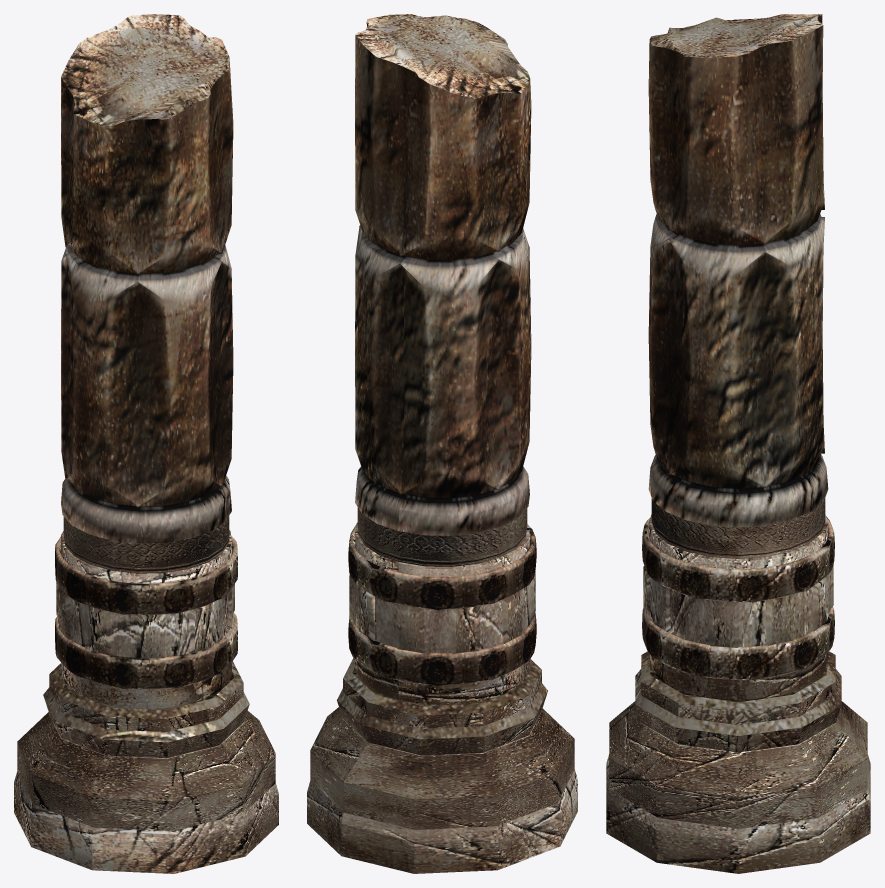
Rendered from TRP_Colum 02.FBX.
The picture shows the model from 3 angles, left to right: view 1: azimuth 30°, elevation 25°; view 2: azimuth 150°, elevation 25°; view 3: azimuth 270°, elevation 25°; orthographic projection. The views are drawn at different scales.
Parts seen in each view (by area): view 1: TRP Colum A_01; view 2: TRP Colum A_01; view 3: TRP Colum A_01.
Boxes of the visible parts, x1,y1,x2,y2 form: TRP Colum A_01: (14, 14, 278, 873); TRP Colum A_01: (307, 14, 577, 873); TRP Colum A_01: (606, 14, 870, 873).
Size of the model in its own units: 19.25 by 18.31 by 61.46.
1 material, 1 textured.
